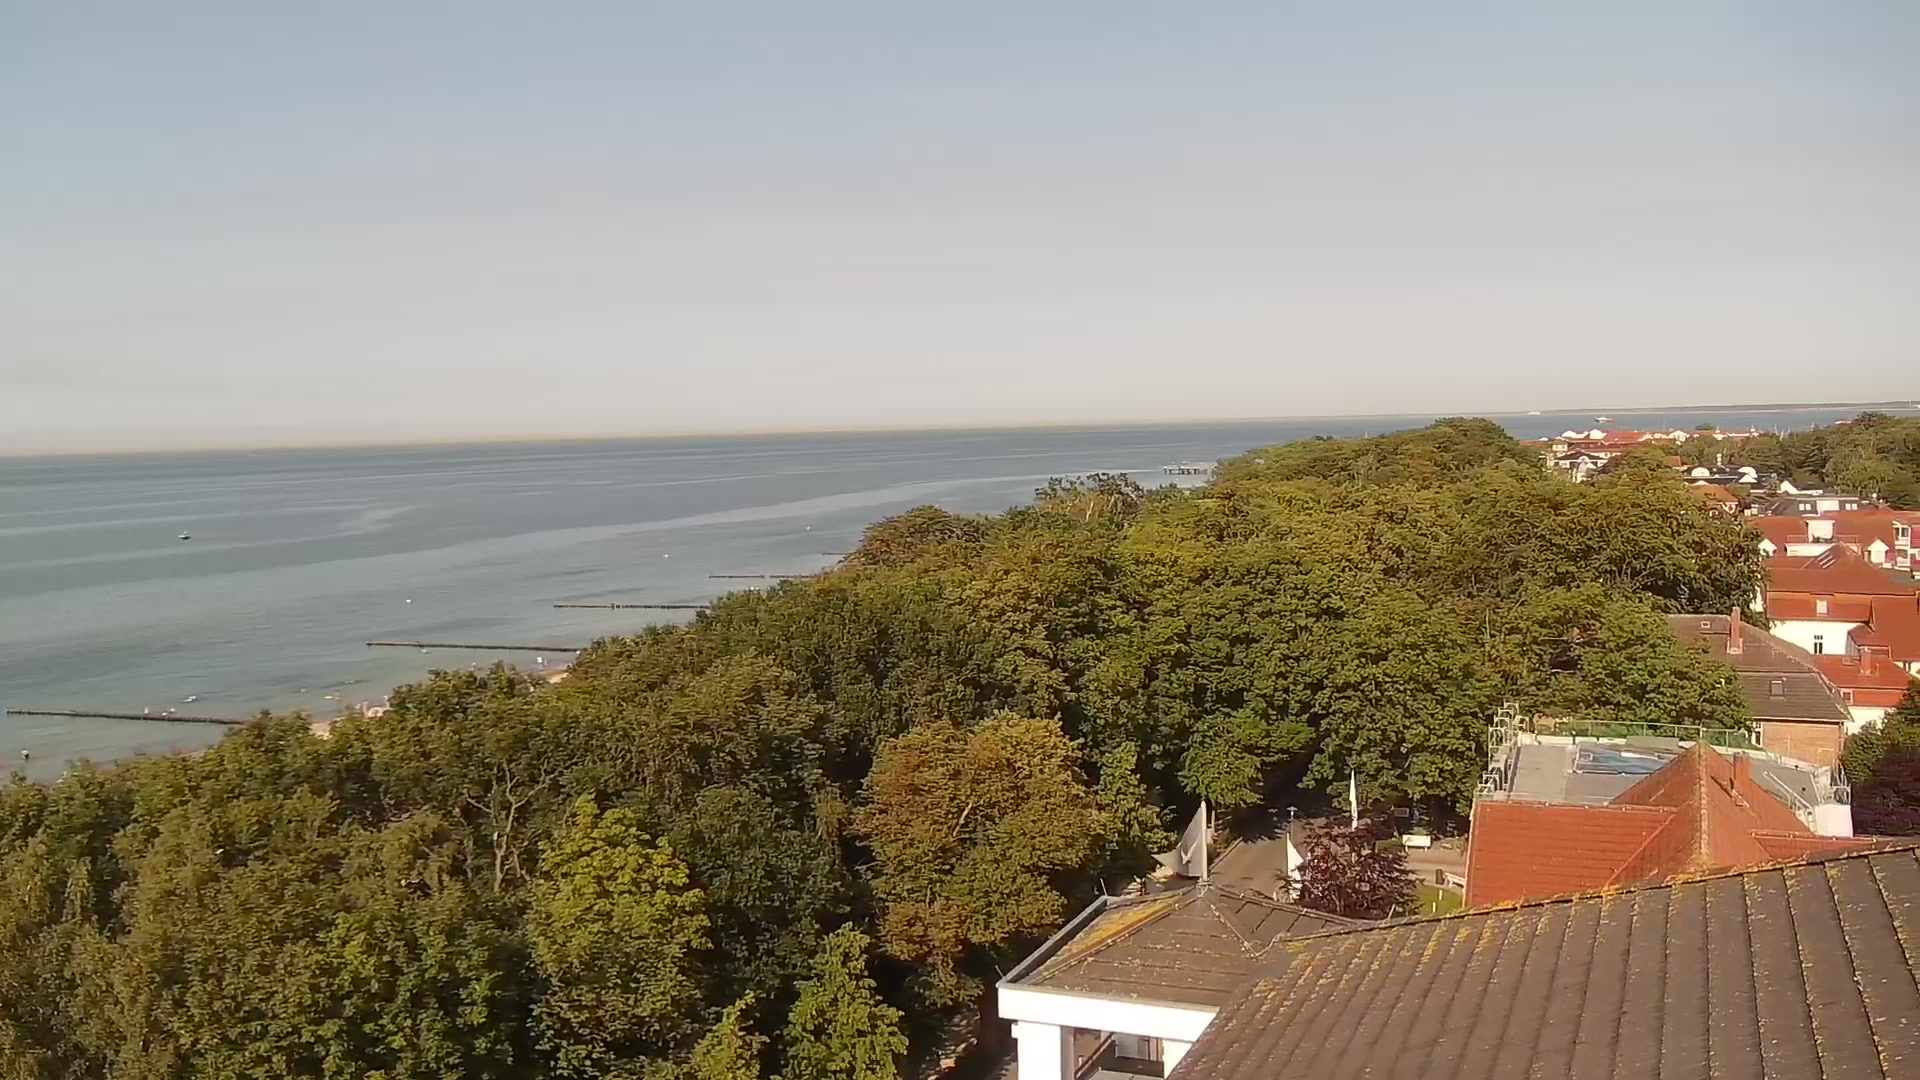human: (21, 748, 30, 761)
sea: (177, 529, 191, 540), (1527, 409, 1542, 414)
